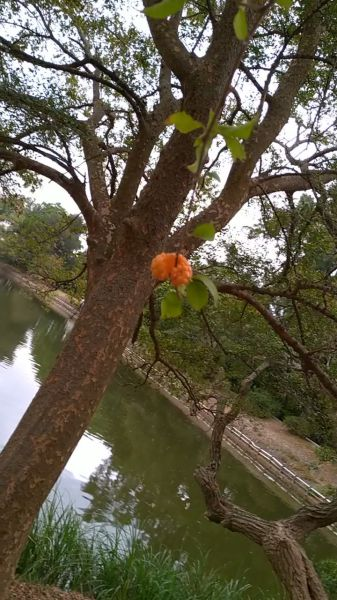eggs: (148, 250, 196, 291)
